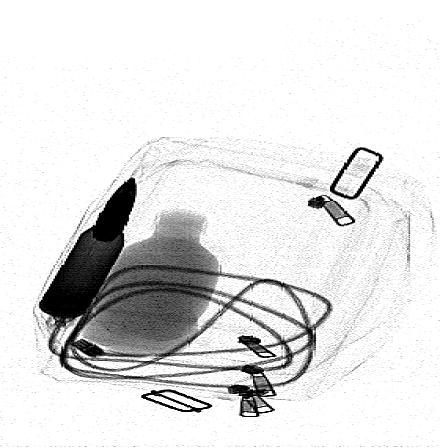Bullet: (36, 173, 140, 321)
